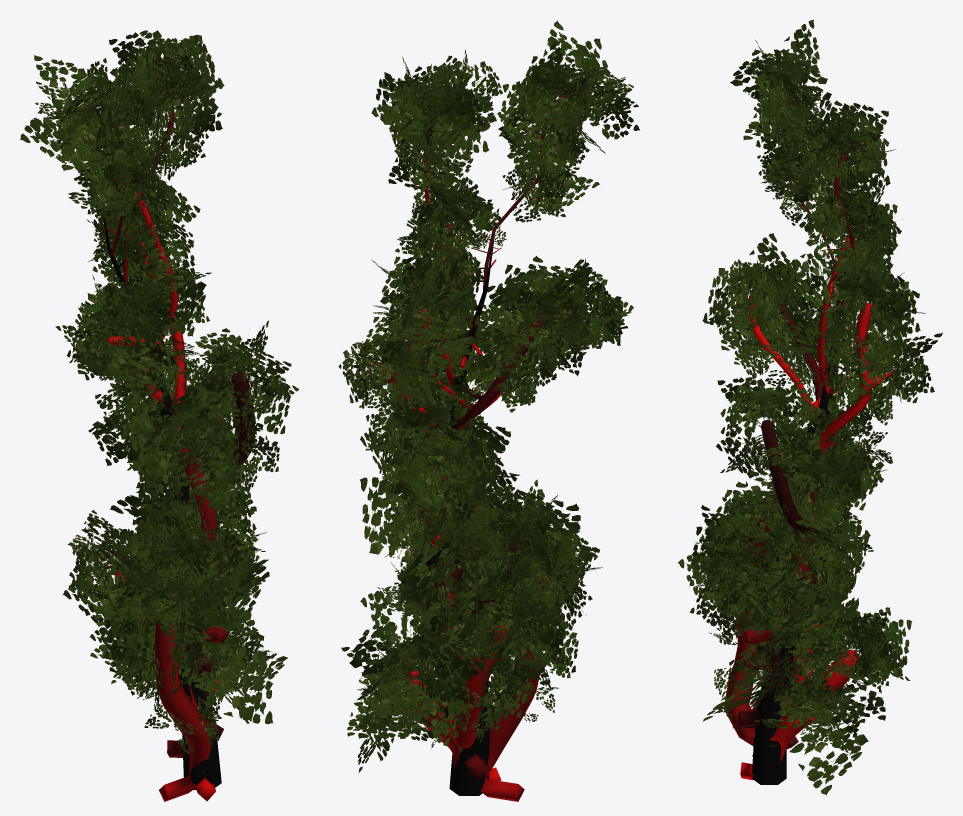
File: Tree_4.fbx
3 views of the same model, side by side, from view 1: azimuth 30°, elevation 25°; view 2: azimuth 150°, elevation 25°; view 3: azimuth 270°, elevation 25° (orthographic). The views are drawn at different scales.
Parts seen in each view (by area): view 1: Tree_12; view 2: Tree_12; view 3: Tree_12.
Part boxes in pixels (left/top/right/bottom): Tree_12: left=20, top=30, right=298, bottom=801; Tree_12: left=338, top=20, right=639, bottom=801; Tree_12: left=677, top=19, right=942, bottom=795.
Size of the model in its own units: 484 by 1276 by 453.
